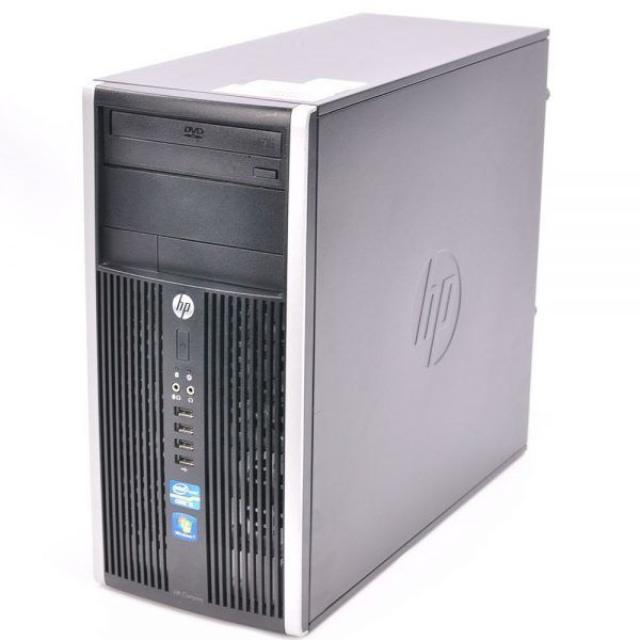Desktop-PC: (87, 17, 533, 628)
